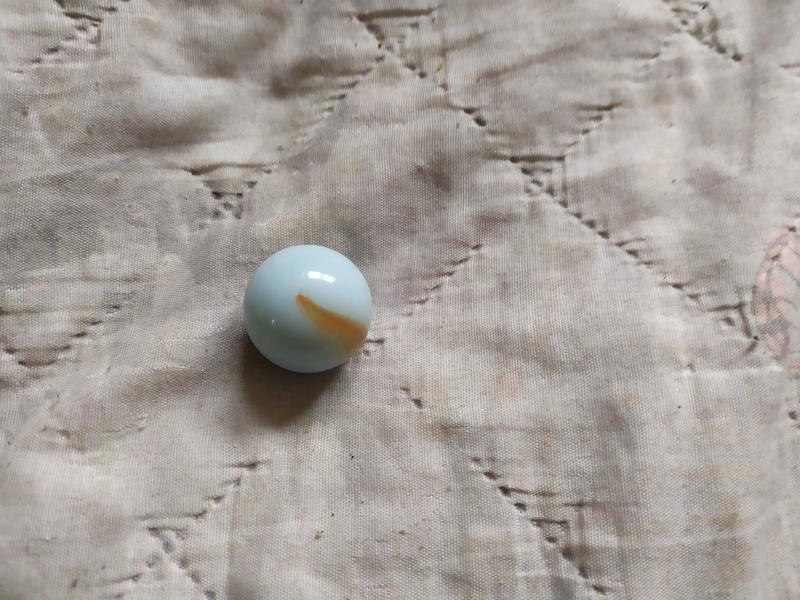Warning: (240, 240, 375, 377)
